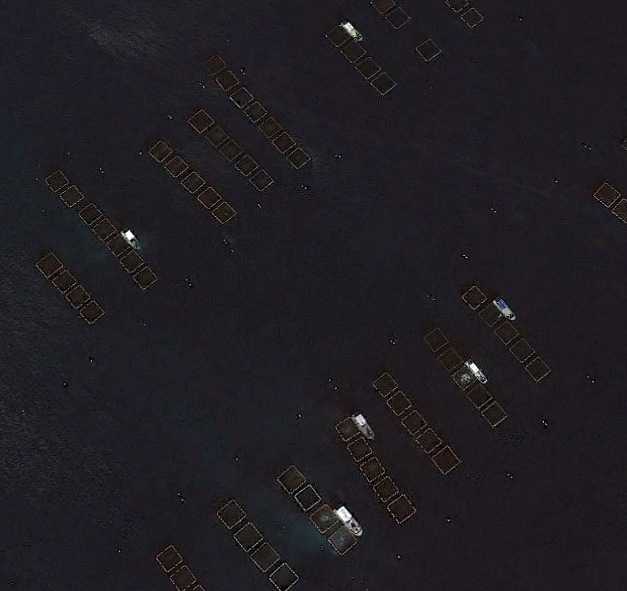ship: (328, 502, 369, 541), (338, 18, 370, 48), (491, 295, 520, 323), (353, 414, 378, 444), (468, 355, 490, 385), (120, 228, 144, 253)
square: (323, 19, 363, 60), (229, 515, 267, 555), (31, 250, 73, 286), (306, 497, 344, 536), (212, 494, 250, 532), (146, 539, 186, 575), (589, 175, 626, 213), (427, 438, 464, 475), (475, 296, 511, 332), (203, 193, 240, 228), (331, 413, 369, 447), (185, 107, 222, 141), (356, 452, 390, 489), (264, 557, 300, 591), (181, 168, 214, 205), (448, 360, 481, 397), (278, 461, 310, 499), (323, 518, 356, 554), (195, 184, 228, 219), (365, 64, 398, 99), (370, 371, 405, 404), (129, 261, 163, 294), (346, 432, 378, 467), (249, 541, 281, 575), (384, 492, 418, 524), (505, 330, 537, 364), (164, 561, 200, 591), (413, 420, 445, 453), (420, 326, 453, 358), (493, 317, 526, 349), (384, 387, 415, 421), (217, 137, 250, 168), (464, 281, 495, 314), (525, 351, 556, 384), (73, 197, 105, 228), (86, 213, 118, 244), (456, 2, 489, 32), (49, 268, 80, 299), (370, 471, 400, 503), (145, 136, 176, 166), (292, 483, 322, 514), (414, 36, 446, 65), (254, 112, 286, 141), (56, 181, 86, 211), (159, 150, 189, 180), (342, 38, 372, 68), (384, 2, 414, 32), (64, 283, 95, 312), (239, 94, 270, 123), (404, 408, 433, 439), (435, 341, 464, 372), (244, 163, 273, 193), (467, 384, 497, 413), (354, 49, 382, 80), (42, 170, 74, 197), (284, 140, 312, 170), (78, 299, 106, 328), (206, 124, 234, 153), (270, 125, 297, 155), (216, 66, 244, 94), (113, 246, 143, 272), (226, 80, 253, 108), (483, 403, 510, 431), (201, 53, 229, 79), (108, 234, 134, 260), (234, 156, 257, 177)
